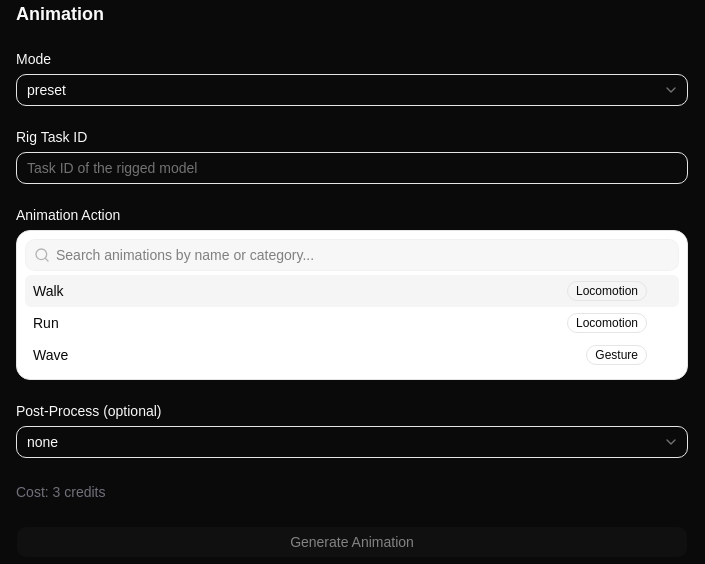
Test: AnimationPanel — TC-POST-07 › TC-POST-07-03: searching the animation list filters out non-matching items
The width and height of the screenshot is (705, 564).
Type "walk" into the dropdown named "Animation Action".
click(364, 255); type("walk")  # box left=50, top=245, right=678, bottom=265
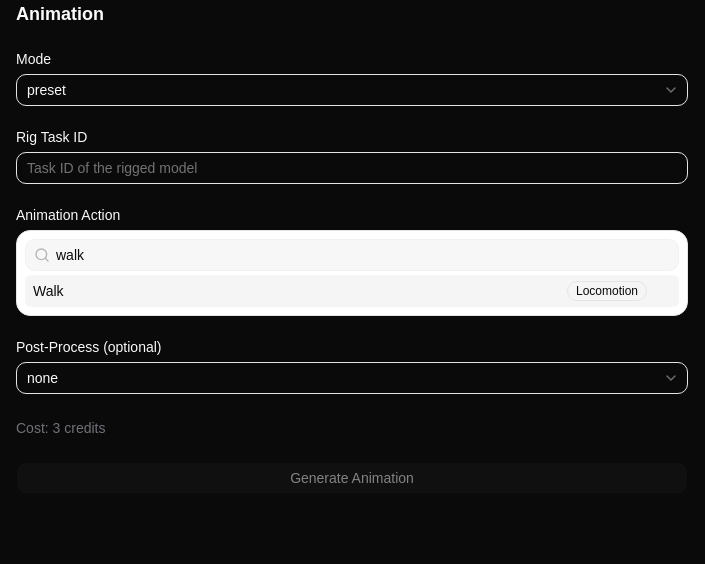
Expected: the text "Walk" is shown, left=33, top=283, right=64, bottom=299
Result: the option "Run" is gone
Result: the option "Wave" is gone
